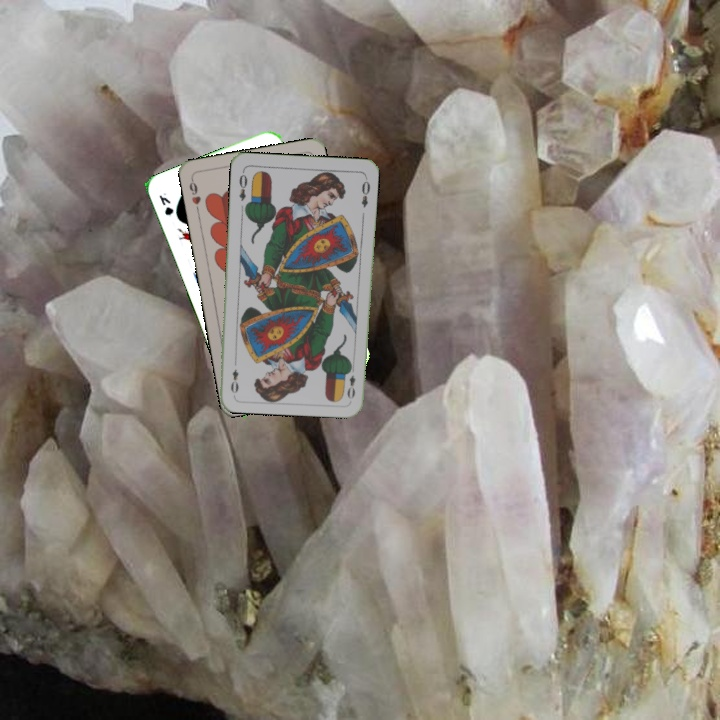EO: (343, 362, 358, 402), (235, 167, 250, 203)
GK: (155, 188, 176, 219)
H9: (185, 175, 203, 215)
